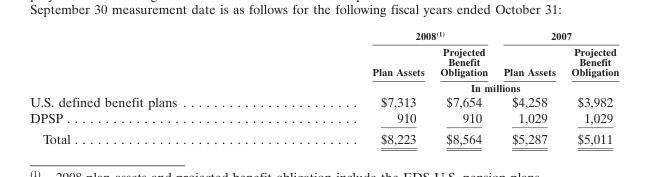table: (29, 29, 618, 145)
table column: (29, 29, 273, 145), (273, 29, 431, 145), (494, 29, 562, 145), (431, 29, 494, 145), (562, 29, 618, 145)
table column header: (29, 29, 618, 93)
table row: (29, 43, 618, 79), (29, 109, 618, 127), (29, 127, 618, 145), (29, 93, 618, 109), (29, 29, 618, 43), (29, 79, 618, 93)
table spanning cell: (273, 79, 618, 93), (273, 29, 494, 43), (494, 29, 618, 43)
